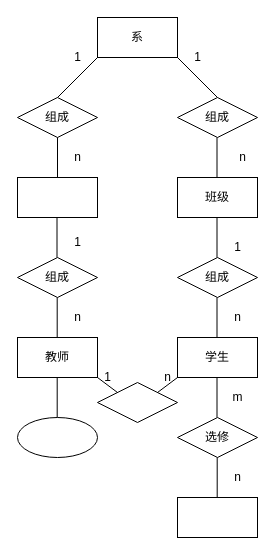
The diagram is 275 pixels wide and 555 high, and some of its shapes have lost their labels. Here are the shapes that lost their labels. From the top down, the centre of each, then its label:
At point 57,197: "教研室".
At point 137,402: "指导".
At point 57,437: "职称".
At point 217,517: "课程".
